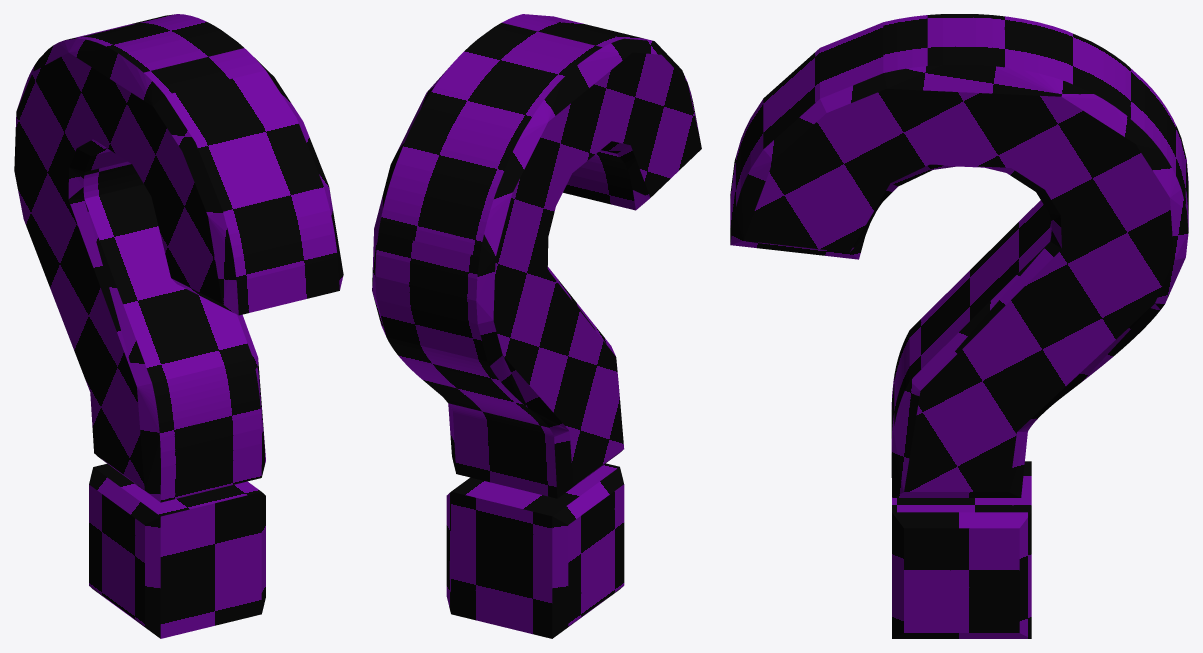
File: placeholder.gltf
The picture shows the model from 3 angles, left to right: view 1: azimuth 30°, elevation 25°; view 2: azimuth 150°, elevation 25°; view 3: azimuth 270°, elevation 25°; orthographic projection. The views are drawn at different scales.
Visible parts, largest first — view 1: Text; view 2: Text; view 3: Text.
Part boxes in pixels (x1=…): Text: x1=14, y1=14, x2=343, y2=638; Text: x1=372, y1=14, x2=701, y2=638; Text: x1=730, y1=14, x2=1188, y2=638.
Size of the model in its own units: 0.12 by 0.5246 by 0.3795.
Materials: 1 (1 with a texture image).
